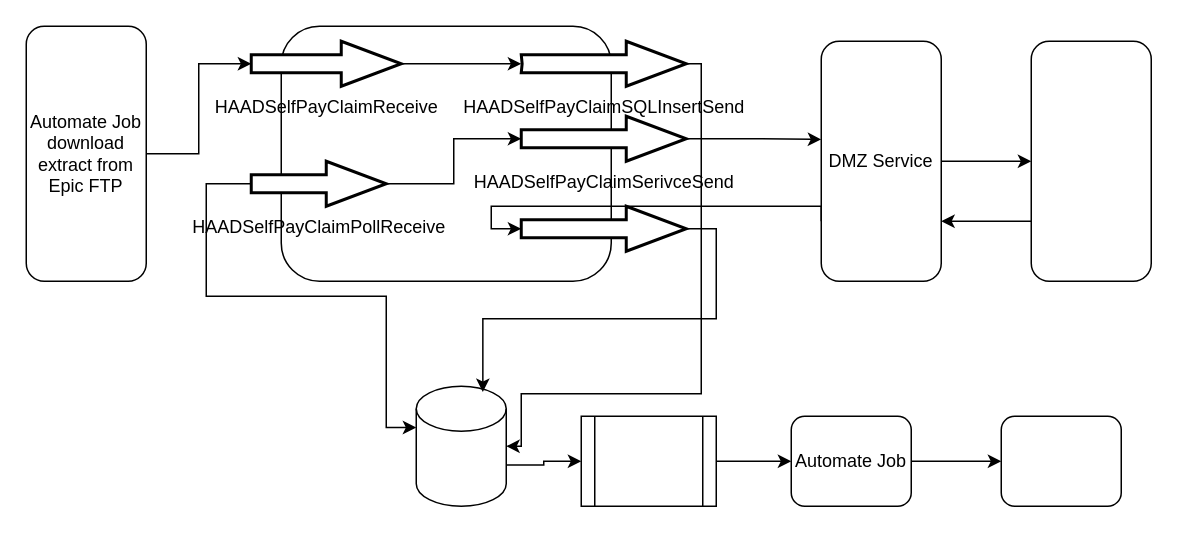
Image size: 1178x533. Some labels were removed from this diagram. Each missing label, with the box of its shape:
Epic FTP: (1000, 415, 1121, 506)
HAADSelfPayClaimSQLUpdateSend: (519, 204, 687, 252)
Shafafiay Service (External): (1030, 40, 1151, 281)
SQL Job: (580, 415, 716, 506)
